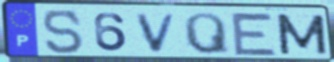6: (92, 12, 130, 53)
E: (229, 10, 280, 57)
M: (273, 12, 330, 56)
Q: (181, 11, 232, 56)
S: (41, 8, 86, 56)
V: (134, 12, 180, 54)
